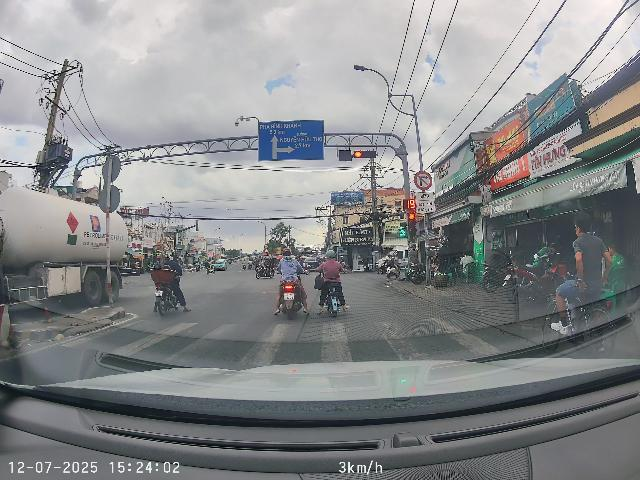123b-cam-re-phai: (414, 171, 433, 190)
